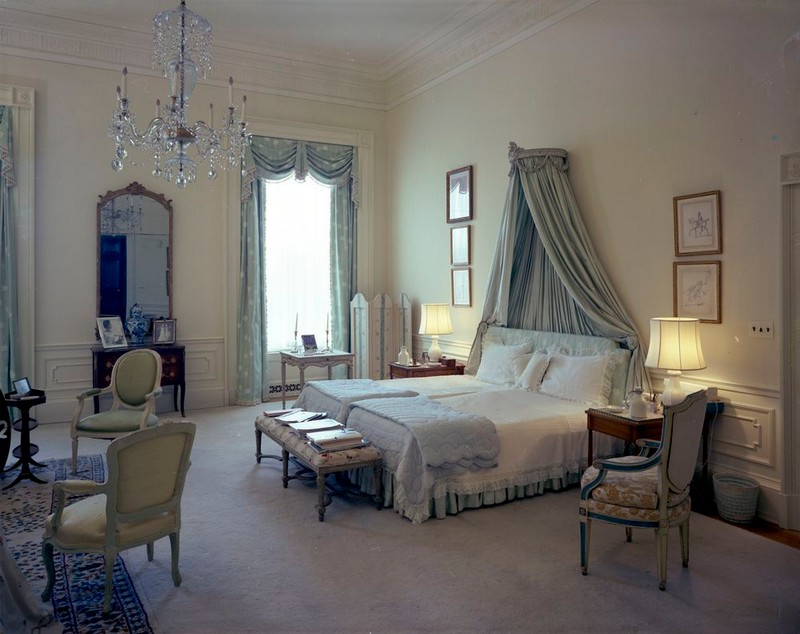bed: (295, 323, 630, 515)
chair: (42, 417, 196, 612), (580, 381, 705, 591), (70, 346, 160, 463), (646, 311, 709, 398)
lamp: (416, 297, 458, 366)
table: (275, 338, 355, 414)
